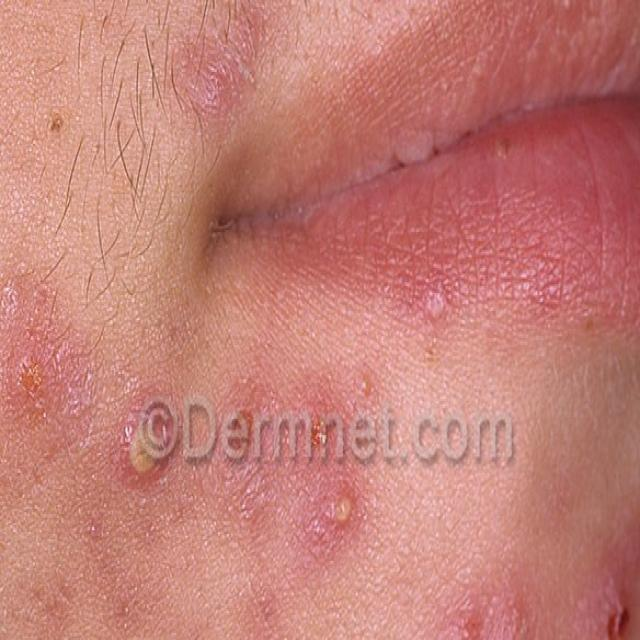Acne: (410, 526, 640, 640), (288, 387, 370, 538), (122, 386, 177, 536), (23, 76, 74, 154)
